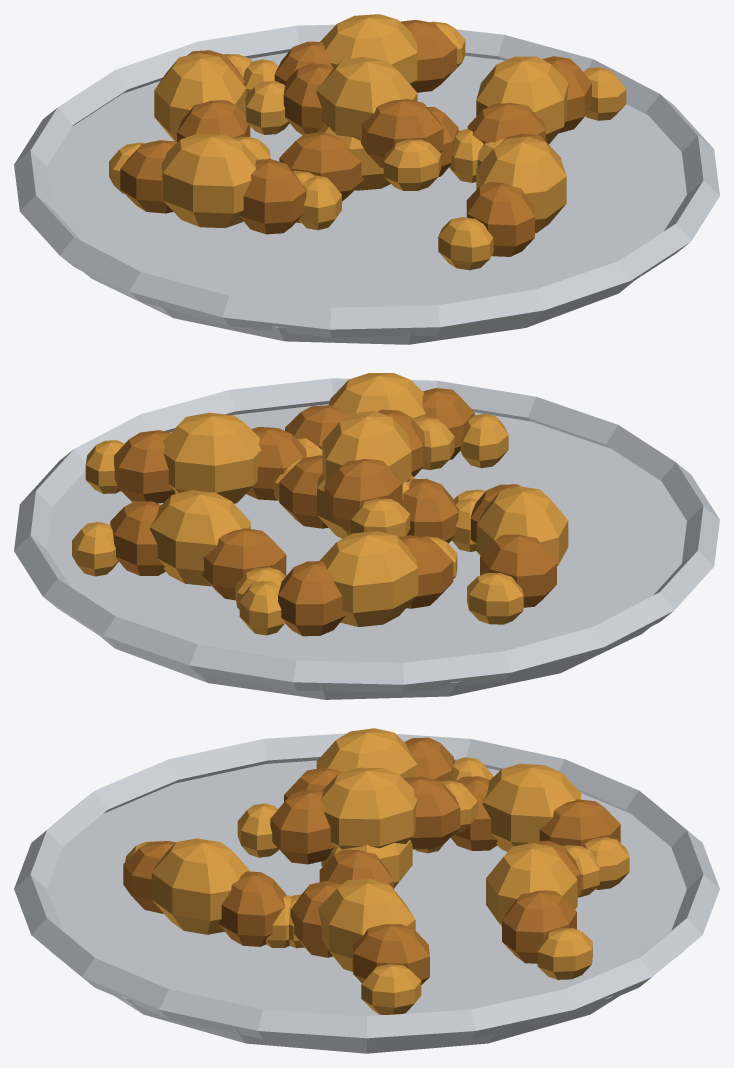
File: bank_croissant_tray.glb
The picture shows the model from 3 angles, top to bottom: view 1: azimuth 30°, elevation 25°; view 2: azimuth 150°, elevation 25°; view 3: azimuth 270°, elevation 25°; orthographic projection.
Parts seen in each view (by area): view 1: tray_tray_silver, croissant_2_croissant, croissant_6_croissant, croissant_3_croissant, croissant_2_croissant_dark, croissant_1_croissant, croissant_6_croissant_dark, croissant_5_croissant, croissant_4_croissant, croissant_0_croissant_dark, croissant_1_croissant_dark, croissant_3_croissant_dark (+3 smaller); view 2: tray_tray_silver, croissant_4_croissant, croissant_5_croissant, croissant_1_croissant, croissant_6_croissant, croissant_2_croissant, croissant_5_croissant_dark, croissant_4_croissant_dark, croissant_1_croissant_dark, croissant_3_croissant, croissant_0_croissant_dark, croissant_6_croissant_dark (+3 smaller); view 3: tray_tray_silver, croissant_6_croissant, croissant_1_croissant, croissant_5_croissant, croissant_4_croissant, croissant_3_croissant, croissant_6_croissant_dark, croissant_3_croissant_dark, croissant_1_croissant_dark, croissant_4_croissant_dark, croissant_5_croissant_dark, croissant_2_croissant (+3 smaller).
Boxes of the visible parts, <box> form: tray_tray_silver: <box>14,24,719,344</box>; croissant_2_croissant: <box>109,133,341,230</box>; croissant_6_croissant: <box>245,56,440,190</box>; croissant_3_croissant: <box>438,136,566,270</box>; croissant_2_croissant_dark: <box>120,140,306,234</box>; croissant_1_croissant: <box>476,56,626,144</box>; croissant_6_croissant_dark: <box>283,63,443,167</box>; croissant_5_croissant: <box>243,14,465,95</box>; croissant_4_croissant: <box>154,53,270,159</box>; croissant_0_croissant_dark: <box>279,107,458,201</box>; croissant_1_croissant_dark: <box>467,56,591,143</box>; croissant_3_croissant_dark: <box>466,133,561,256</box>; tray_tray_silver: <box>14,378,719,699</box>; croissant_4_croissant: <box>239,531,457,635</box>; croissant_5_croissant: <box>72,490,285,609</box>; croissant_1_croissant: <box>85,412,322,503</box>; croissant_6_croissant: <box>322,411,454,536</box>; croissant_2_croissant: <box>454,486,568,624</box>; croissant_5_croissant_dark: <box>110,501,286,600</box>; croissant_4_croissant_dark: <box>278,535,453,636</box>; croissant_1_croissant_dark: <box>114,427,306,503</box>; croissant_3_croissant: <box>301,373,508,468</box>; croissant_0_croissant_dark: <box>279,455,458,543</box>; croissant_6_croissant_dark: <box>324,409,424,531</box>; tray_tray_silver: <box>14,733,719,1053</box>; croissant_6_croissant: <box>237,767,477,857</box>; croissant_1_croissant: <box>265,879,421,1014</box>; croissant_5_croissant: <box>486,843,599,979</box>; croissant_4_croissant: <box>415,763,629,889</box>; croissant_3_croissant: <box>125,838,304,948</box>; croissant_6_croissant_dark: <box>270,777,460,864</box>; croissant_3_croissant_dark: <box>123,841,285,946</box>; croissant_1_croissant_dark: <box>290,881,429,984</box>; croissant_4_croissant_dark: <box>450,776,620,850</box>; croissant_5_croissant_dark: <box>502,840,580,963</box>; croissant_2_croissant: <box>316,728,492,781</box>.
Bounding box in the file's own units: 0.514 × 0.12 × 0.514.
